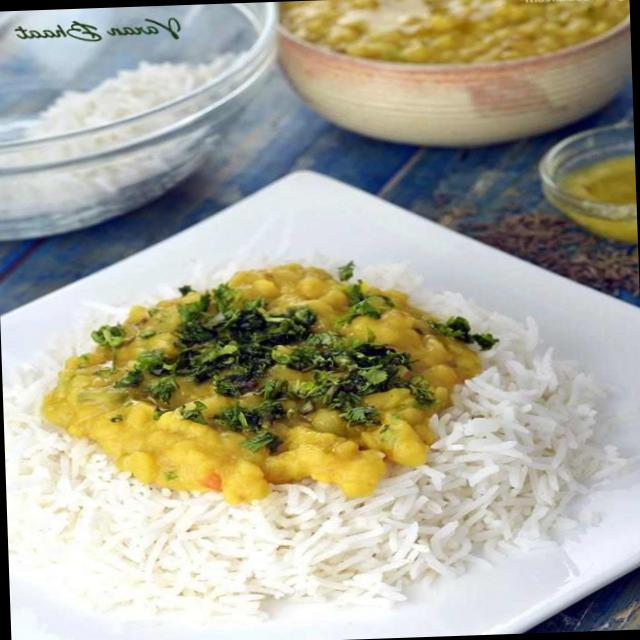dal: (25, 264, 490, 503)
rice: (1, 245, 602, 626)
